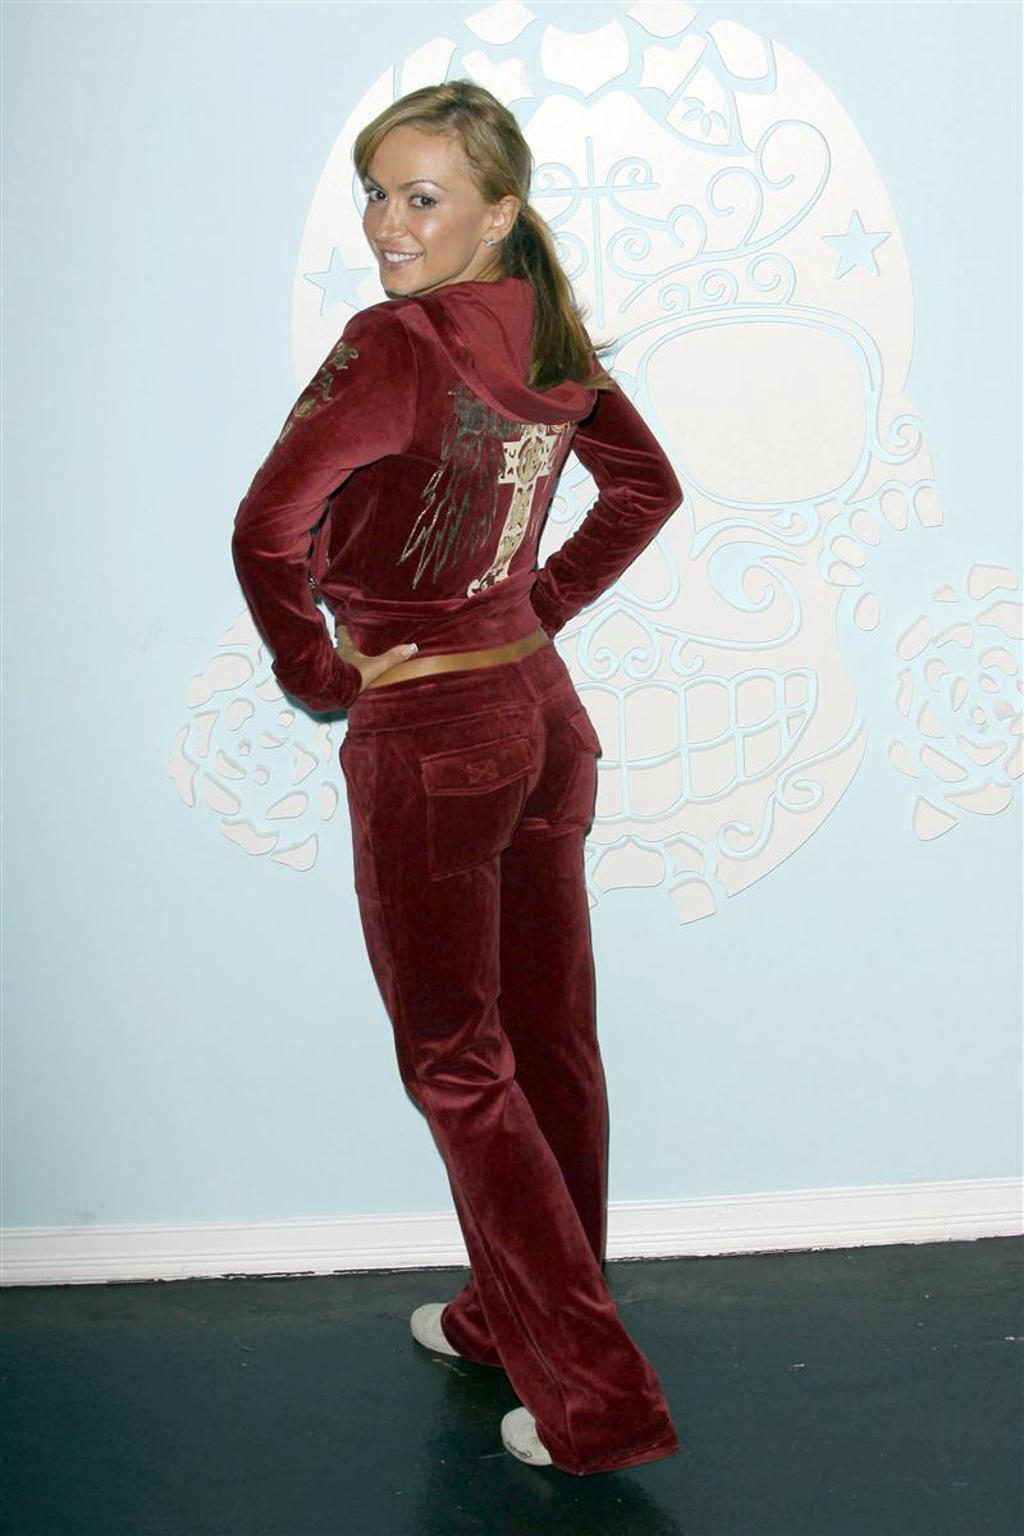face: (360, 129, 474, 294)
